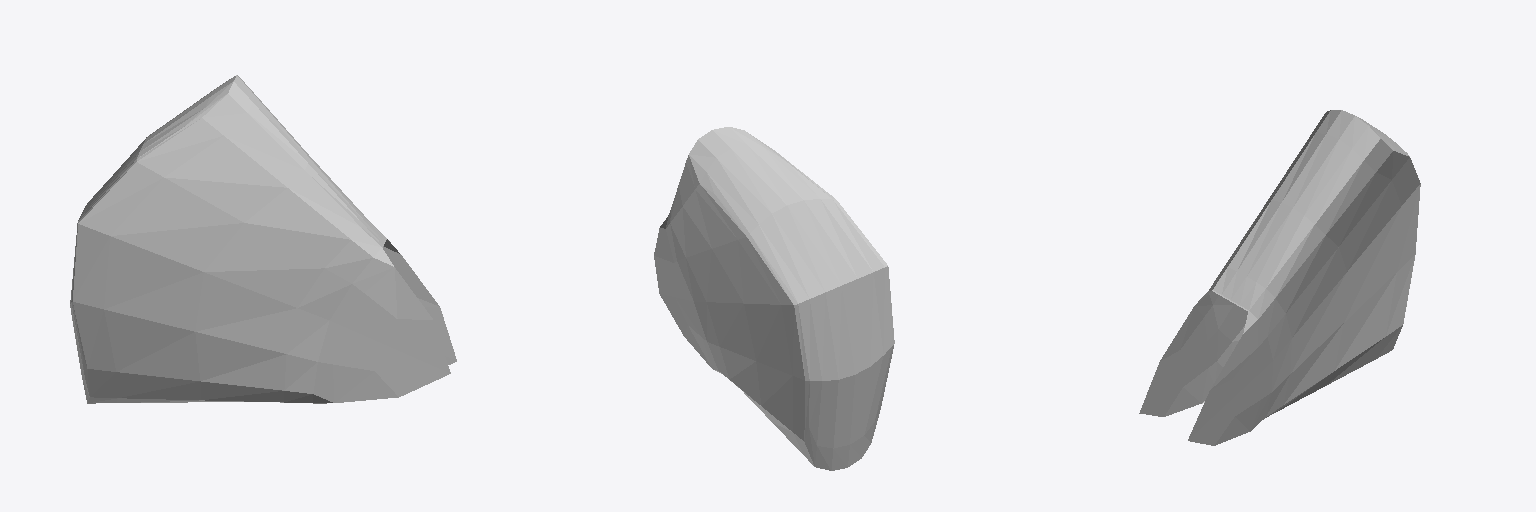
The model's file is SubTool-2-2777870.OBJ.
3 renders of one model, left to right at view 1: azimuth 30°, elevation 25°; view 2: azimuth 150°, elevation 25°; view 3: azimuth 270°, elevation 25°, orthographic.
Parts seen in each view (by area): view 1: Group31; view 2: Group31; view 3: Group31.
Boxes of the visible parts, x1=… form: Group31: x1=70, y1=75, x2=456, y2=403; Group31: x1=654, y1=127, x2=894, y2=470; Group31: x1=1139, y1=110, x2=1420, y2=445.
Size of the model in its own units: 1.99 by 1.84 by 1.57.